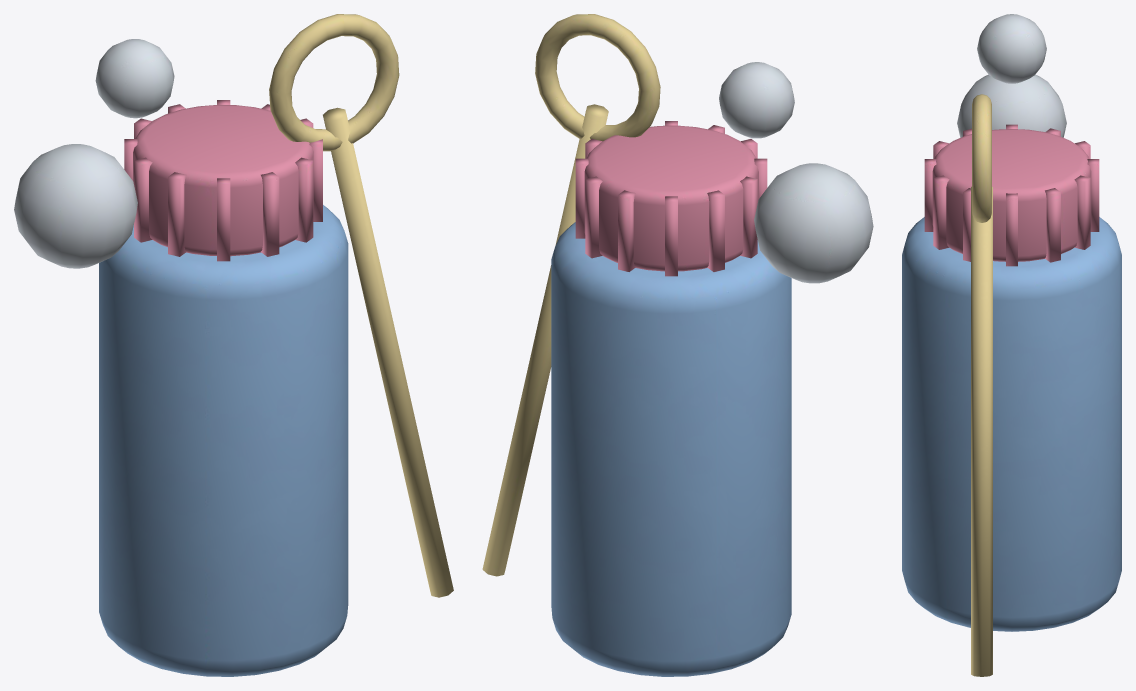
Rendered from keepsake-bubble-wand.glb.
The picture shows the model from 3 angles, left to right: view 1: azimuth 30°, elevation 25°; view 2: azimuth 150°, elevation 25°; view 3: azimuth 270°, elevation 25°; orthographic projection. The views are drawn at different scales.
Visible parts, largest first — view 1: keepsake-bubble-wand; view 2: keepsake-bubble-wand; view 3: keepsake-bubble-wand.
Boxes of the visible parts, box(x1,y1,x2,y2) form: keepsake-bubble-wand: box(14, 14, 453, 676); keepsake-bubble-wand: box(482, 14, 873, 676); keepsake-bubble-wand: box(902, 14, 1121, 676).
Size of the model in its own units: 0.0848 by 0.12 by 0.0444.
Materials: 1 (1 with a texture image).
